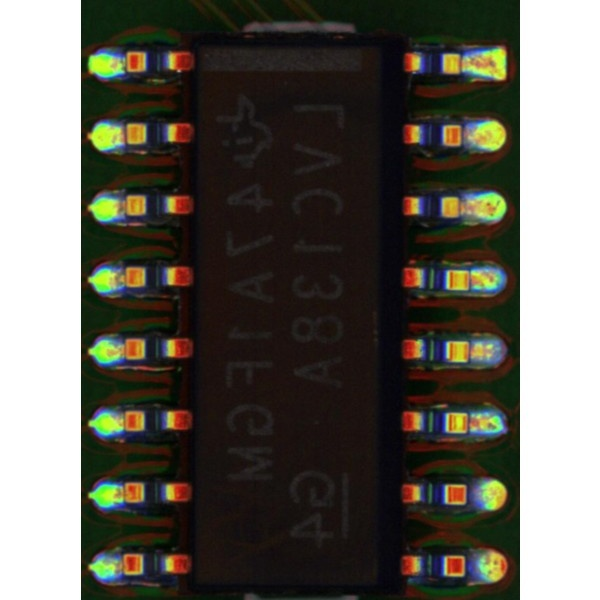Bad_podu: (455, 415, 484, 430), (454, 343, 483, 358), (454, 272, 484, 286), (452, 198, 474, 215)
